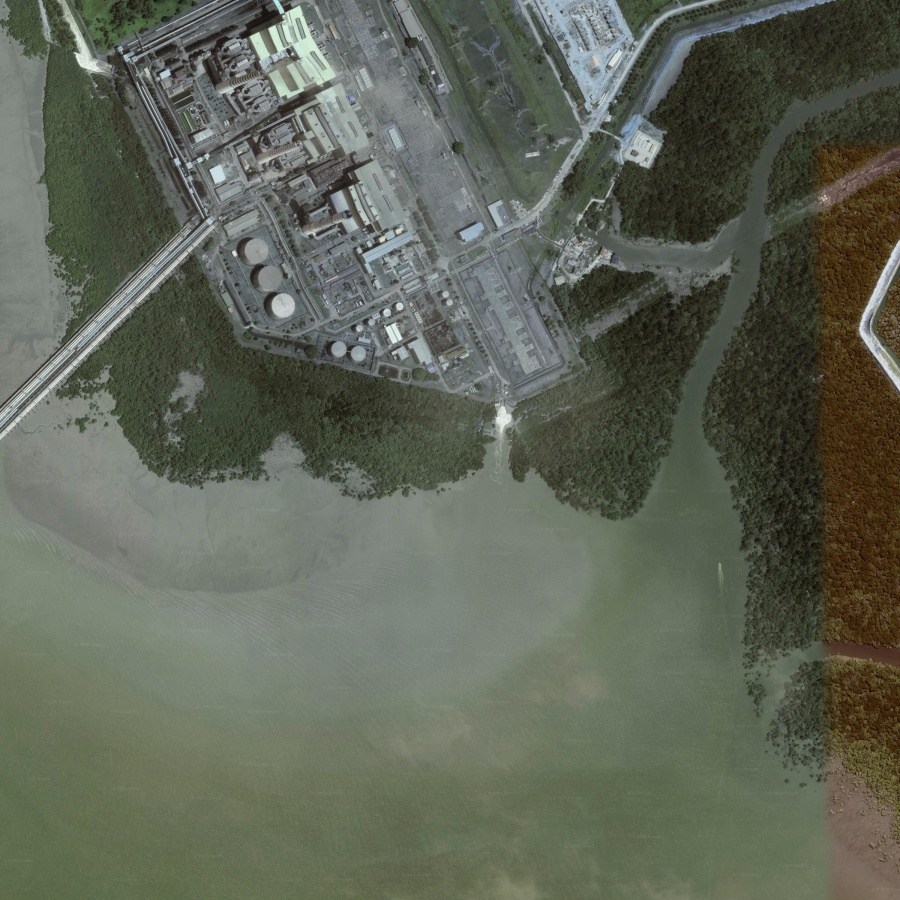PowerPlant: (140, 20, 505, 382)
